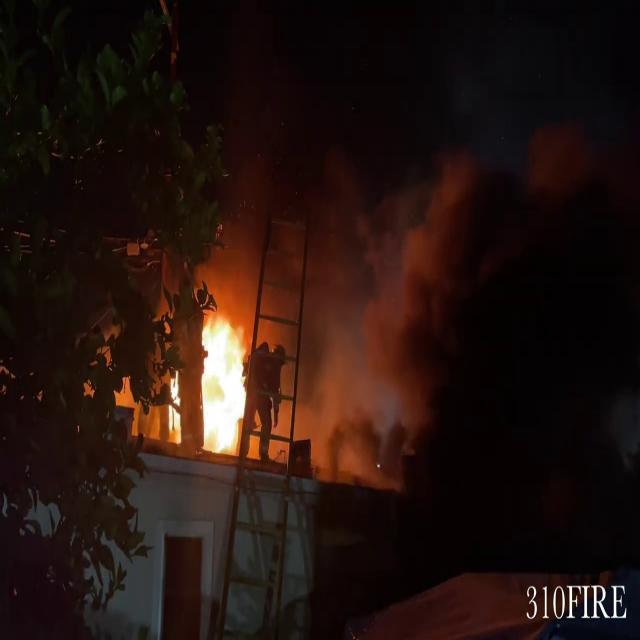Fire: (192, 304, 255, 457), (165, 366, 185, 440)
Smoke: (260, 136, 458, 470)
